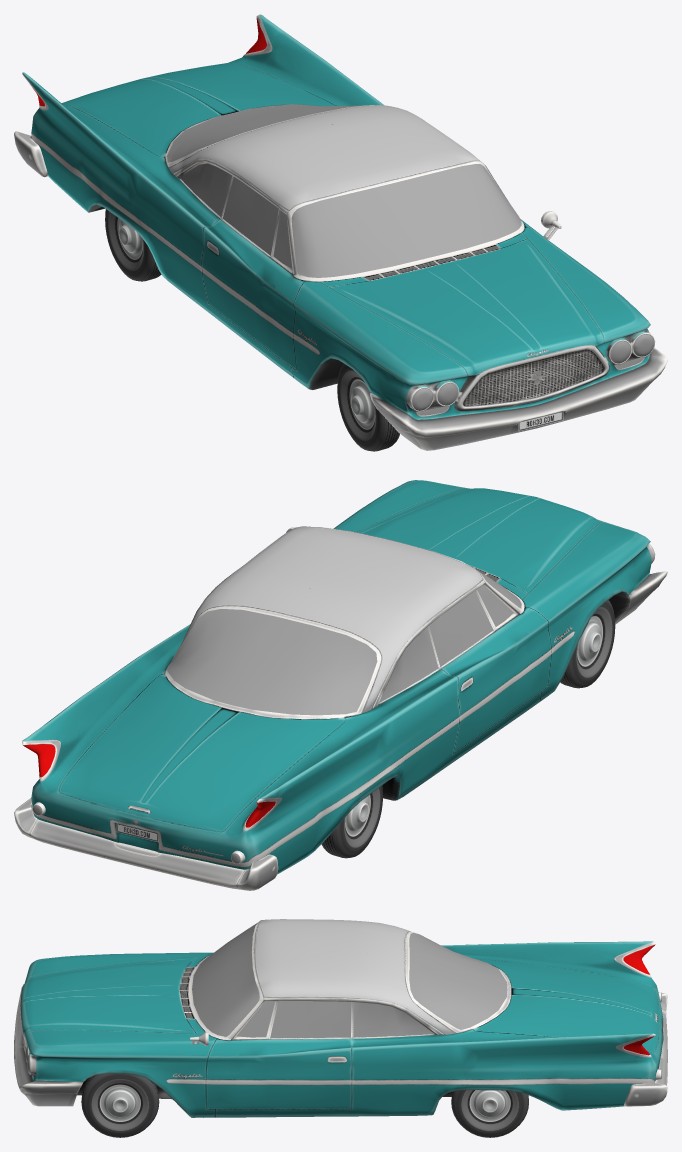
File: car.glb
3 views of the same model, one above another, from view 1: azimuth 30°, elevation 25°; view 2: azimuth 150°, elevation 25°; view 3: azimuth 270°, elevation 25° (orthographic). The views are drawn at different scales.
Visible parts, largest first — view 1: Object_3, Object_4, Object_2; view 2: Object_3, Object_4, Object_2; view 3: Object_3, Object_4, Object_2.
Part boxes in pixels (left/top/right/bottom): Object_3: left=14, top=14, right=667, bottom=450; Object_4: left=32, top=18, right=654, bottom=415; Object_2: left=105, top=209, right=399, bottom=451; Object_3: left=14, top=480, right=667, bottom=890; Object_4: left=23, top=570, right=521, bottom=863; Object_2: left=321, top=600, right=615, bottom=858; Object_3: left=14, top=919, right=667, bottom=1117; Object_4: left=25, top=923, right=661, bottom=1078; Object_2: left=81, top=1073, right=528, bottom=1137.
Size of the model in its own units: 216 by 140 by 573.
3 materials, 3 textured.
